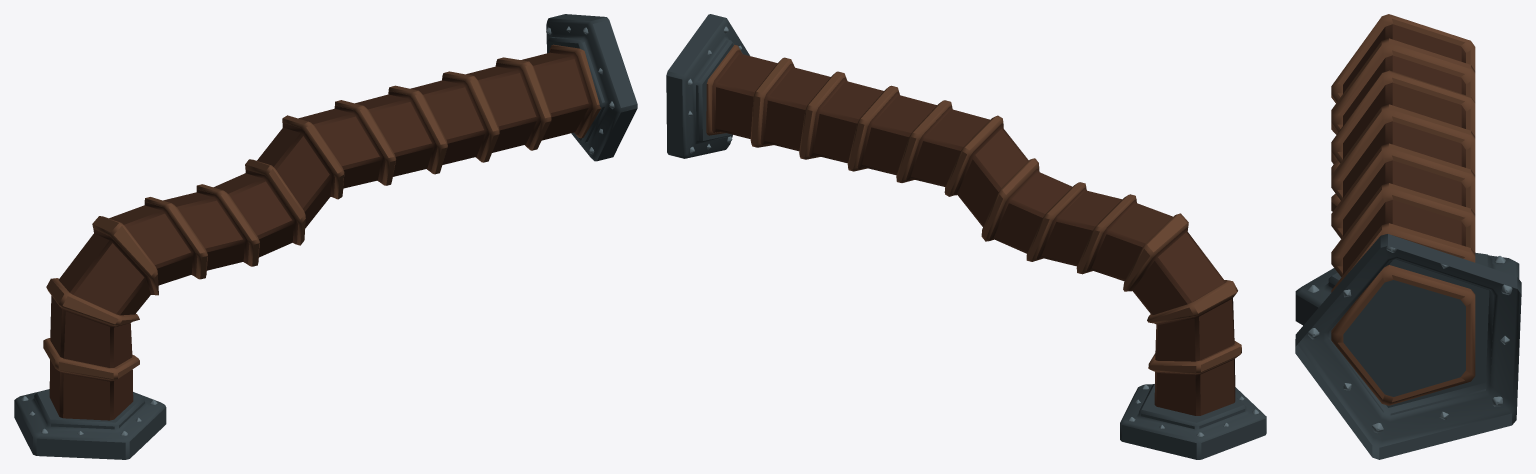
Rendered from pipe_shape3.fbx.
The picture shows the model from 3 angles, left to right: view 1: azimuth 30°, elevation 25°; view 2: azimuth 150°, elevation 25°; view 3: azimuth 270°, elevation 25°; orthographic projection. The views are drawn at different scales.
Parts seen in each view (by area): view 1: curve gen v2.006; view 2: curve gen v2.006; view 3: curve gen v2.006.
Boxes of the visible parts, left/top/right/bottom form: curve gen v2.006: left=14, top=14, right=637, bottom=459; curve gen v2.006: left=666, top=14, right=1266, bottom=459; curve gen v2.006: left=1295, top=14, right=1521, bottom=459.
Bounding box in the file's own units: 8.19 × 4.02 × 1.81.
